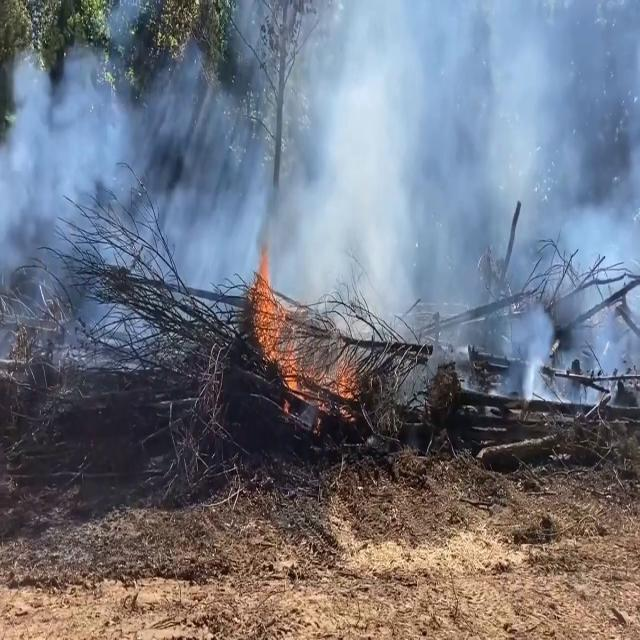Fire: (250, 245, 301, 407)
Smoke: (4, 1, 640, 352)
